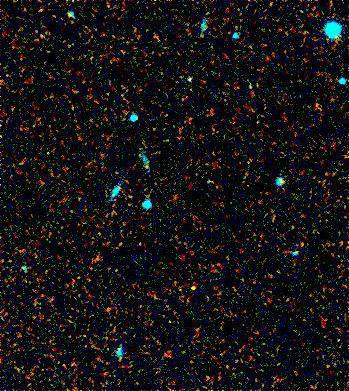star: (180, 273, 210, 303)
